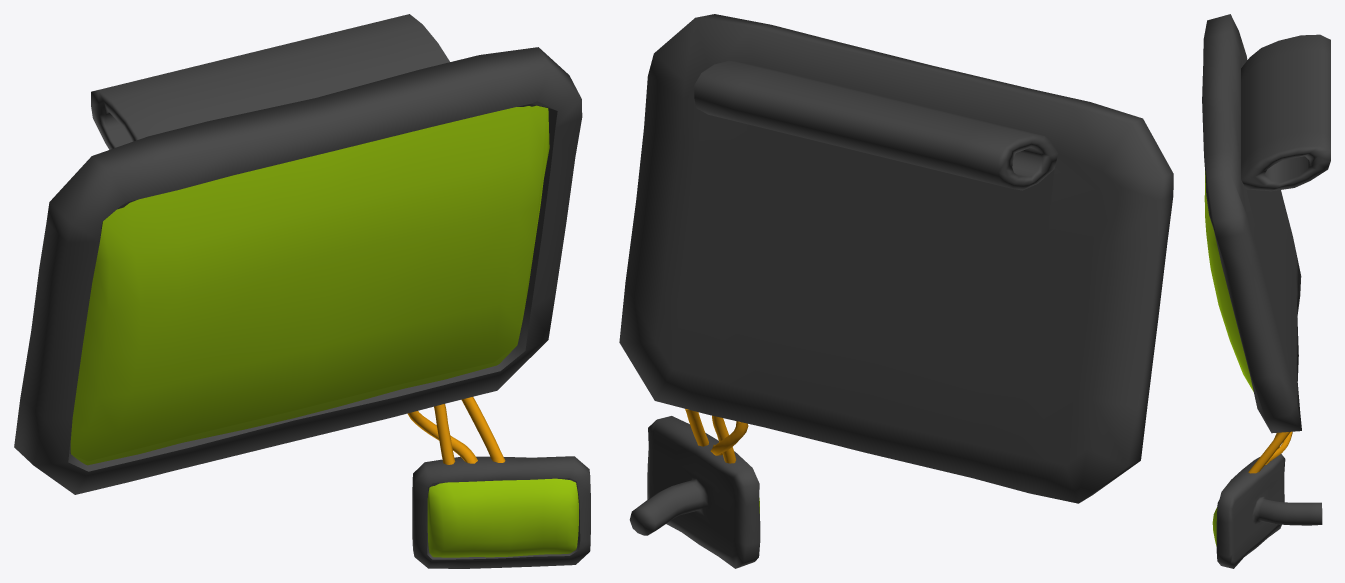
Rendered from fullPCNoLaptop.fbx.
The picture shows the model from 3 angles, left to right: view 1: azimuth 30°, elevation 25°; view 2: azimuth 150°, elevation 25°; view 3: azimuth 270°, elevation 25°; orthographic projection. The views are drawn at different scales.
Parts seen in each view (by area): view 1: screenGlass, screen_low, smallScreenGlass, smallScreen_low, rightSideWires; view 2: screen_low, smallScreen_low, rightSideWires; view 3: screen_low, smallScreen_low, screenGlass, rightSideWires.
Boxes of the visible parts, box(x1,y1,x2,y2) form: screenGlass: box(70, 105, 549, 465); screen_low: box(14, 14, 582, 494); smallScreenGlass: box(427, 478, 578, 557); smallScreen_low: box(412, 456, 590, 568); rightSideWires: box(407, 397, 505, 464); screen_low: box(619, 14, 1173, 503); smallScreen_low: box(629, 416, 760, 568); rightSideWires: box(685, 409, 748, 463); screen_low: box(1202, 14, 1330, 433); smallScreen_low: box(1216, 454, 1322, 568); screenGlass: box(1204, 171, 1253, 391); rightSideWires: box(1248, 431, 1292, 473).
Bounding box in the file's own units: 252 × 237 × 71.78.
